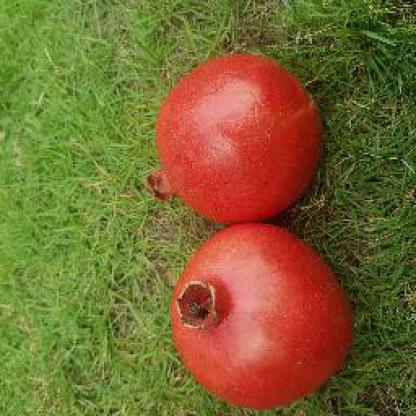pomegranate: (166, 226, 356, 406), (150, 54, 318, 228)
